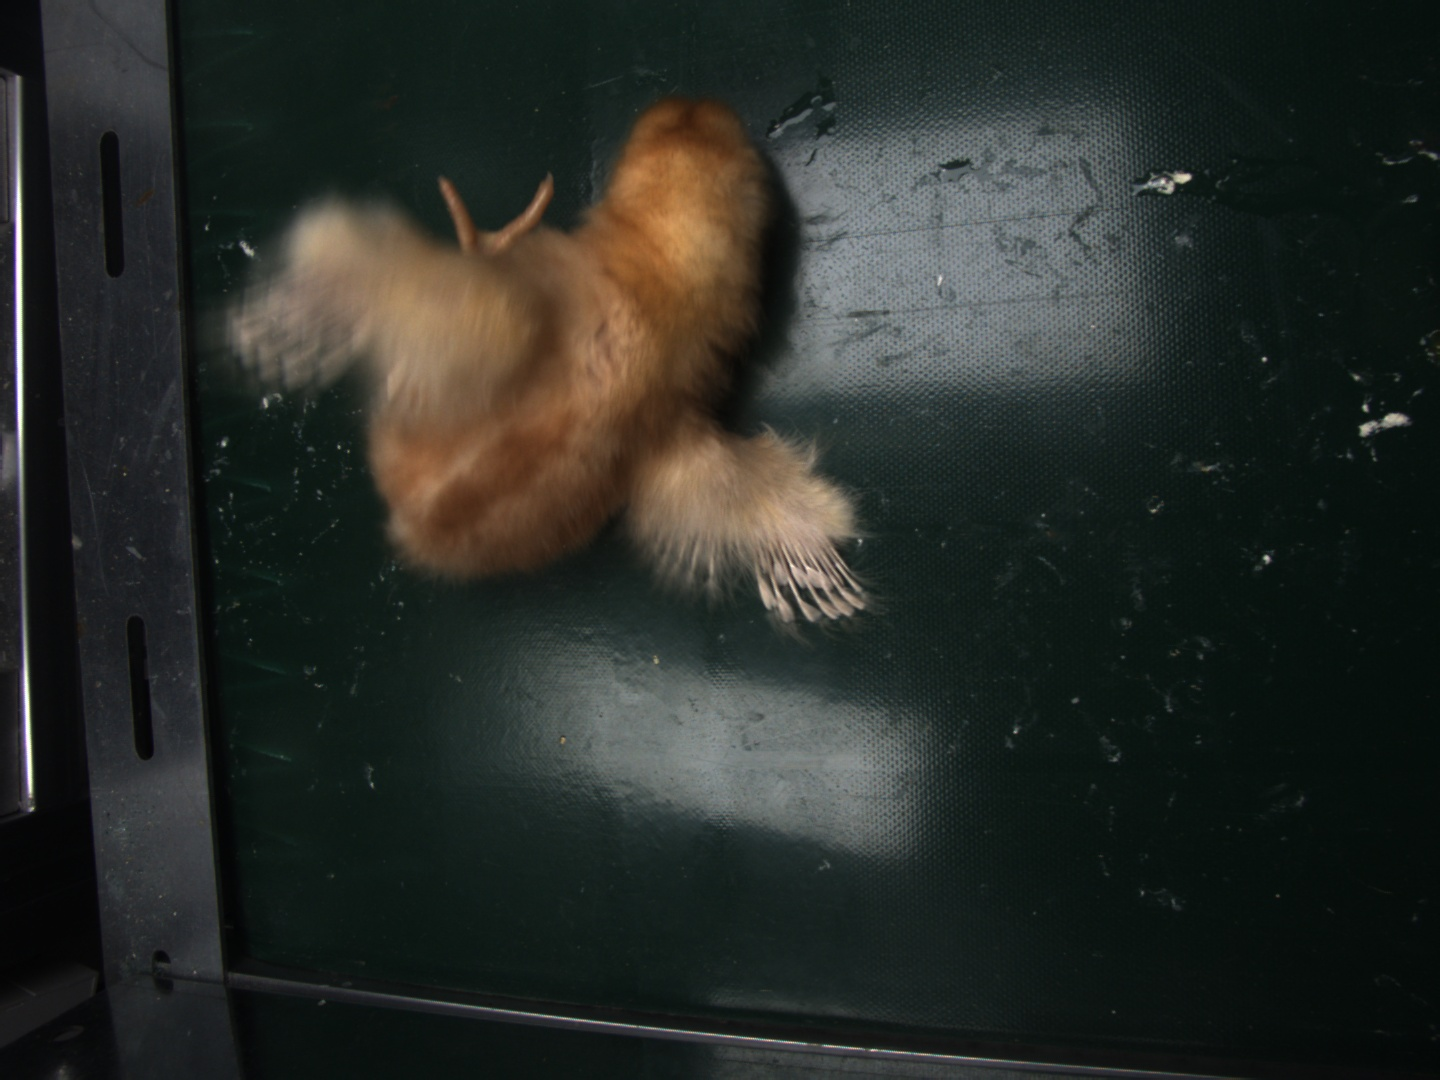female: (757, 542, 872, 627)
